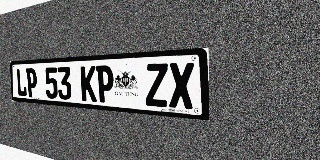3: (57, 67, 71, 100)
5: (45, 67, 58, 99)
K: (80, 66, 97, 102)
L: (16, 68, 27, 97)
P: (96, 65, 114, 103), (26, 68, 37, 98)
X: (168, 62, 195, 109)
Z: (145, 63, 168, 107)
